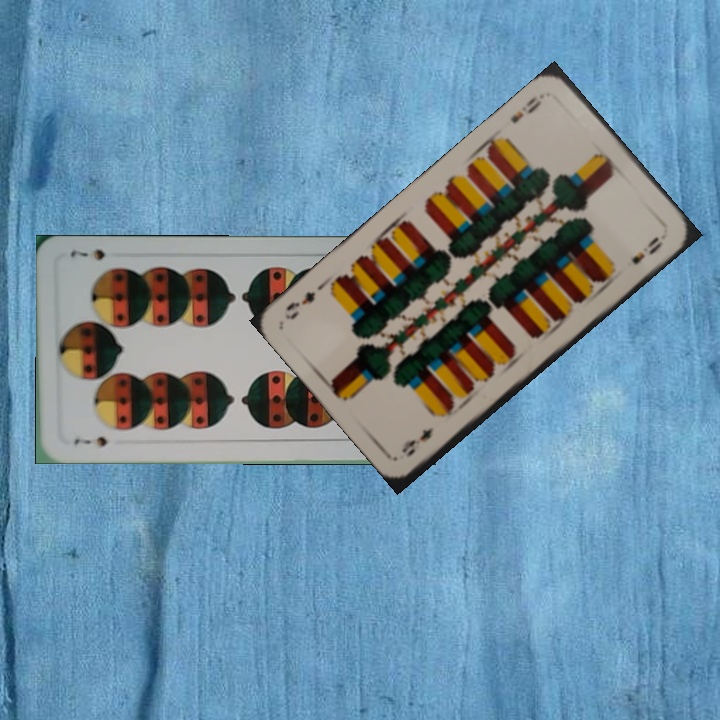E9: (506, 89, 550, 126), (397, 422, 437, 460)
S7: (70, 432, 109, 449)
